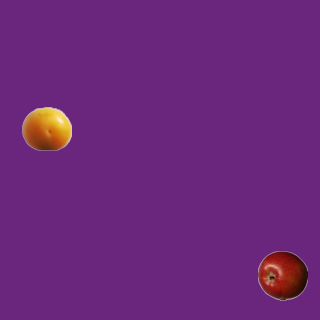Apple Braeburn: (257, 250, 307, 300)
Cherry Wax Yellow: (21, 103, 71, 153)
